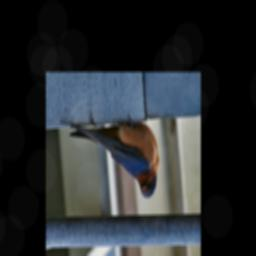Swallow: (58, 107, 161, 210)
